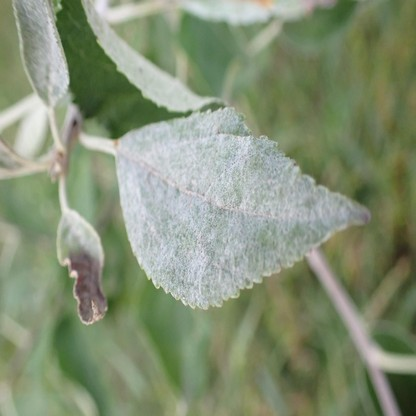powdery_mildew: (115, 106, 371, 308), (82, 0, 221, 113), (13, 0, 70, 105), (58, 209, 104, 262)
